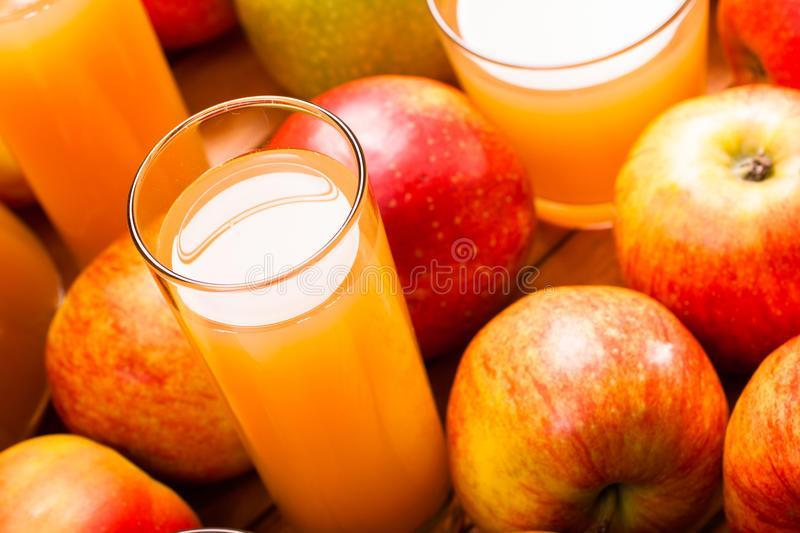apple: (443, 284, 731, 529), (296, 69, 533, 363), (604, 82, 794, 380), (41, 225, 260, 478)
